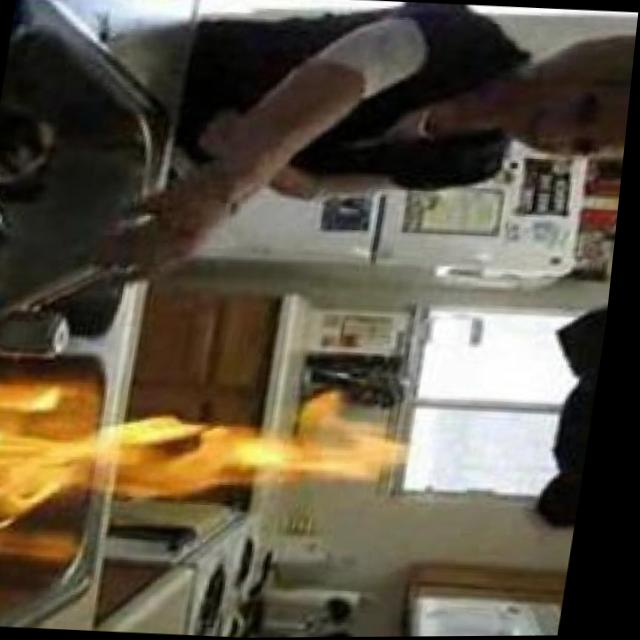Fire: (0, 373, 416, 539)
